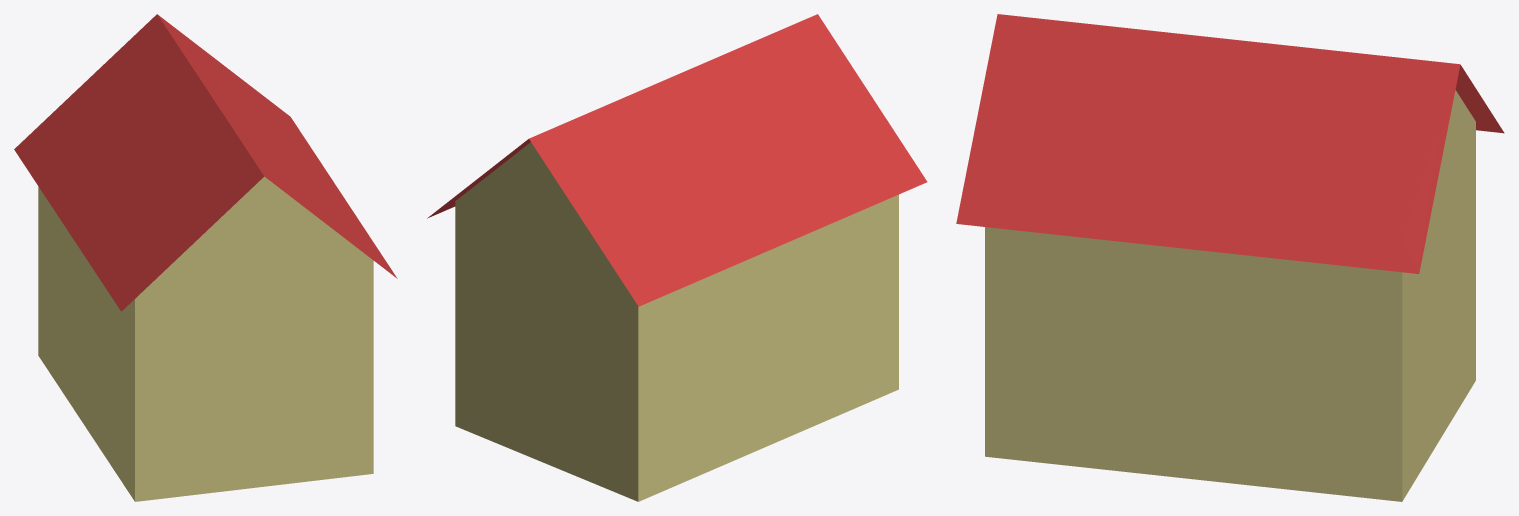
The picture shows the model from 3 angles, left to right: view 1: azimuth 30°, elevation 25°; view 2: azimuth 150°, elevation 25°; view 3: azimuth 270°, elevation 25°; orthographic projection. The views are drawn at different scales.
Size of the model in its own units: 9.57 by 11.62 by 8.93.
